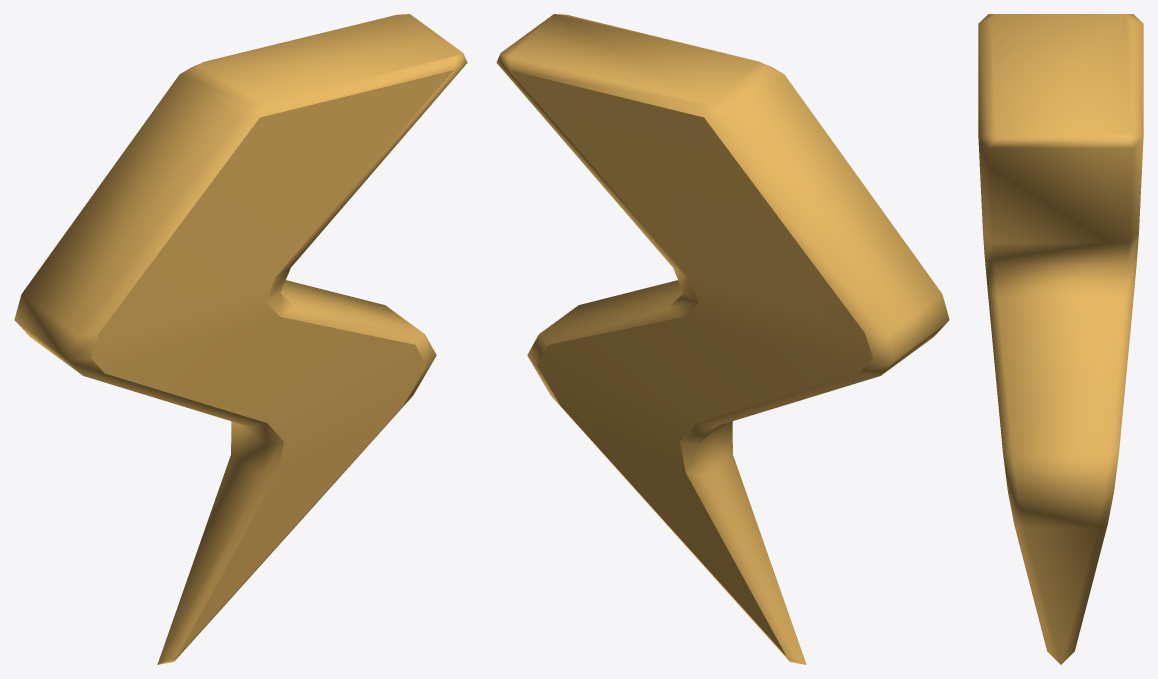
File: Thunder.gltf
The picture shows the model from 3 angles, left to right: view 1: azimuth 30°, elevation 25°; view 2: azimuth 150°, elevation 25°; view 3: azimuth 270°, elevation 25°; orthographic projection. The views are drawn at different scales.
Visible parts, largest first — view 1: Thunder; view 2: Thunder; view 3: Thunder.
Part boxes in pixels (box(x1,y1,x2,y2)): Thunder: box(14, 14, 467, 664); Thunder: box(496, 14, 949, 664); Thunder: box(978, 14, 1143, 664).
Bounding box in the file's own units: 1.17 × 1.59 × 0.3502.
